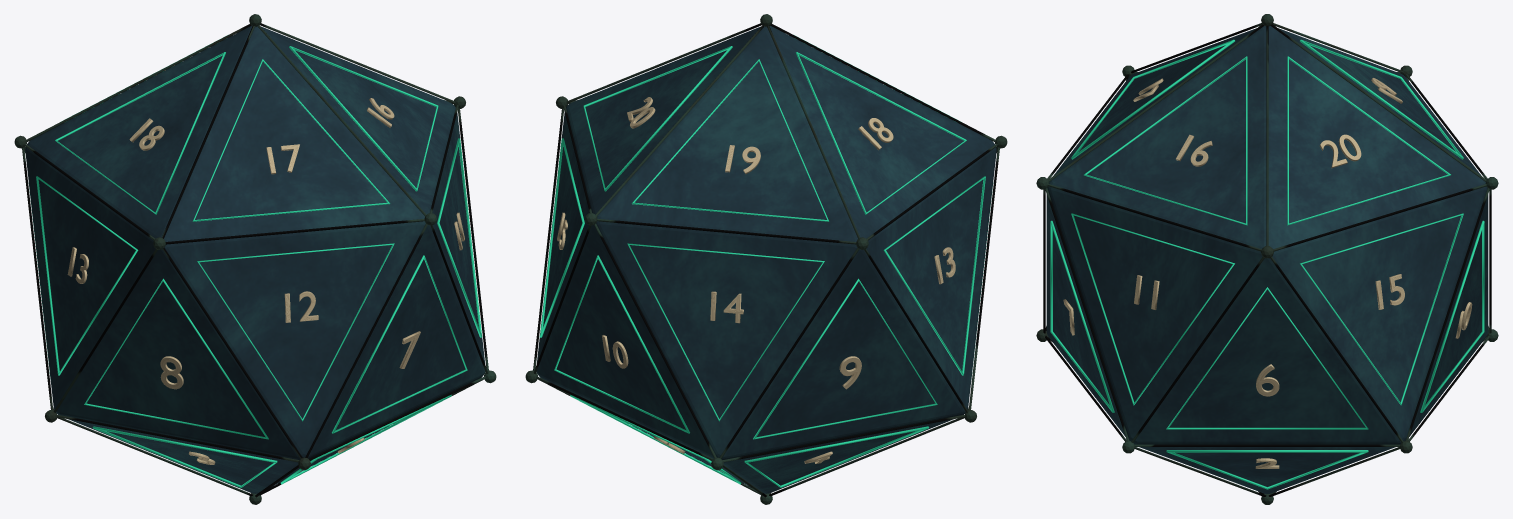
The model's file is D20_二十面骰_baked.glb.
3 views of the same model, side by side, from view 1: azimuth 30°, elevation 25°; view 2: azimuth 150°, elevation 25°; view 3: azimuth 270°, elevation 25° (orthographic).
Visible parts, largest first — view 1: D20_Body_20_Faces, D20_Occult_Face_Borders, D20_Aged_Bronze_Edges, D20_Vertex_Studs, Face_08_Number_8; view 2: D20_Body_20_Faces, D20_Occult_Face_Borders, D20_Aged_Bronze_Edges, D20_Vertex_Studs; view 3: D20_Body_20_Faces, D20_Occult_Face_Borders, D20_Aged_Bronze_Edges, D20_Vertex_Studs, Face_20_Number_20.
Boxes of the visible parts, box(x1,y1,x2,y2) form: D20_Body_20_Faces: box(25, 26, 485, 493); D20_Occult_Face_Borders: box(28, 35, 482, 487); D20_Aged_Bronze_Edges: box(22, 23, 488, 497); D20_Vertex_Studs: box(14, 14, 496, 504); Face_08_Number_8: box(160, 356, 183, 389); D20_Body_20_Faces: box(536, 26, 996, 493); D20_Occult_Face_Borders: box(539, 35, 993, 487); D20_Aged_Bronze_Edges: box(533, 23, 999, 497); D20_Vertex_Studs: box(525, 14, 1007, 504); D20_Body_20_Faces: box(1046, 26, 1488, 493); D20_Occult_Face_Borders: box(1050, 39, 1484, 489); D20_Aged_Bronze_Edges: box(1043, 23, 1491, 496); D20_Vertex_Studs: box(1036, 14, 1498, 504); Face_20_Number_20: box(1319, 134, 1361, 168).
Bounding box in the file's own units: 5.58 × 6.23 × 5.32.
24 materials, 23 textured.
